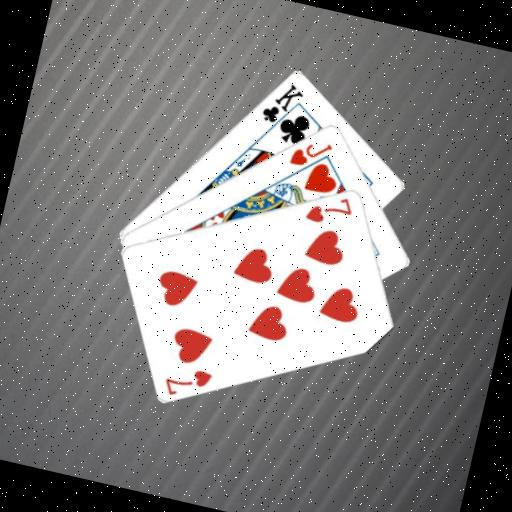7H: (159, 359, 216, 406), (301, 186, 358, 232)
JH: (286, 132, 336, 175)
KC: (255, 75, 308, 139)
